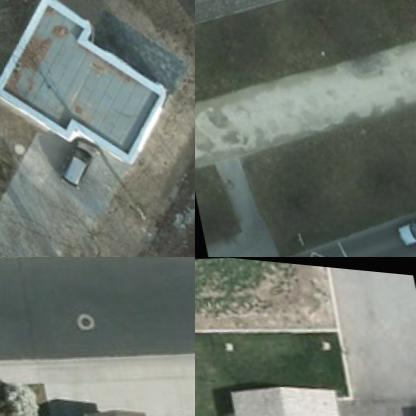car: (46, 134, 102, 190), (386, 204, 415, 248)
